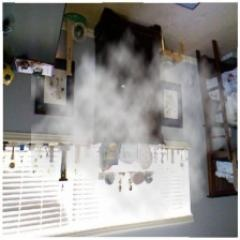smoke: (63, 70, 166, 179)
